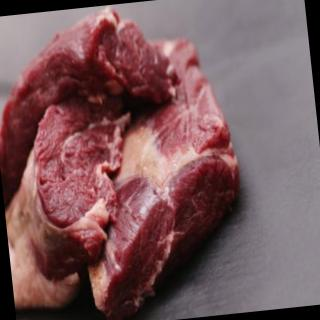Daging Sapi: (1, 1, 252, 320)
